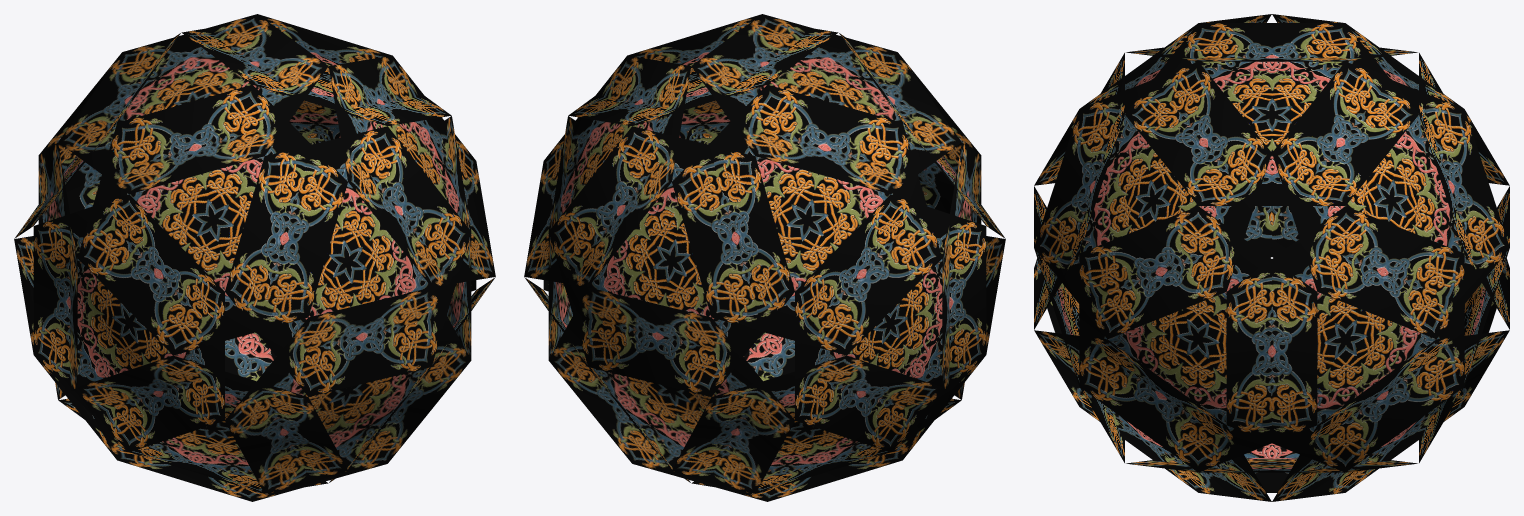
The model's file is SmallIcosicosidodecahedron.gltf.
3 renders of one model, left to right at view 1: azimuth 30°, elevation 25°; view 2: azimuth 150°, elevation 25°; view 3: azimuth 270°, elevation 25°, orthographic. The views are drawn at different scales.
Parts seen in each view (by area): view 1: SmallIcosicosidodecahedron; view 2: SmallIcosicosidodecahedron; view 3: SmallIcosicosidodecahedron.
Part boxes in pixels (x1,y1,x2,y2): SmallIcosicosidodecahedron: (14,14,495,501); SmallIcosicosidodecahedron: (524,14,1005,501); SmallIcosicosidodecahedron: (1034,14,1509,501).
Size of the model in its own units: 3.24 by 3.24 by 3.24.
Materials: 1 (1 with a texture image).
